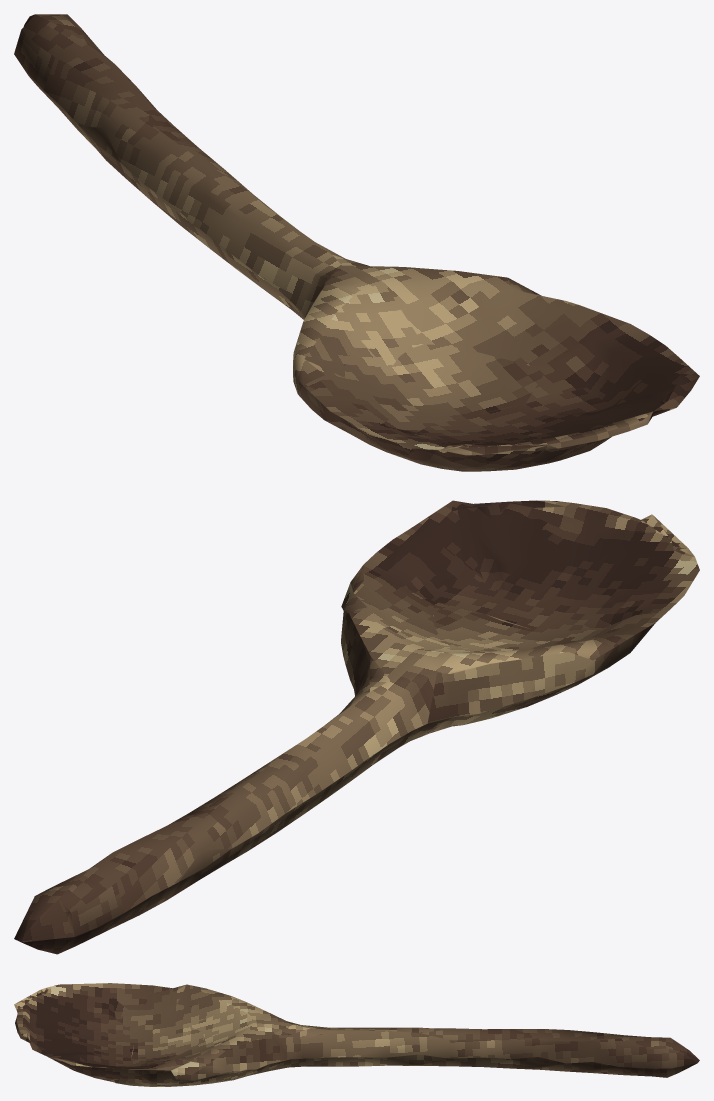
The model's file is wooden_spoon.glb.
3 views of the same model, one above another, from view 1: azimuth 30°, elevation 25°; view 2: azimuth 150°, elevation 25°; view 3: azimuth 270°, elevation 25° (orthographic). The views are drawn at different scales.
Visible parts, largest first — view 1: body; view 2: body; view 3: body.
Part boxes in pixels (x1,y1,x2,y2): body: (14,14,699,471); body: (14,500,699,954); body: (14,983,699,1086).
Bounding box in the file's own units: 0.0798 × 0.0251 × 0.2691.
1 material, 1 textured.
